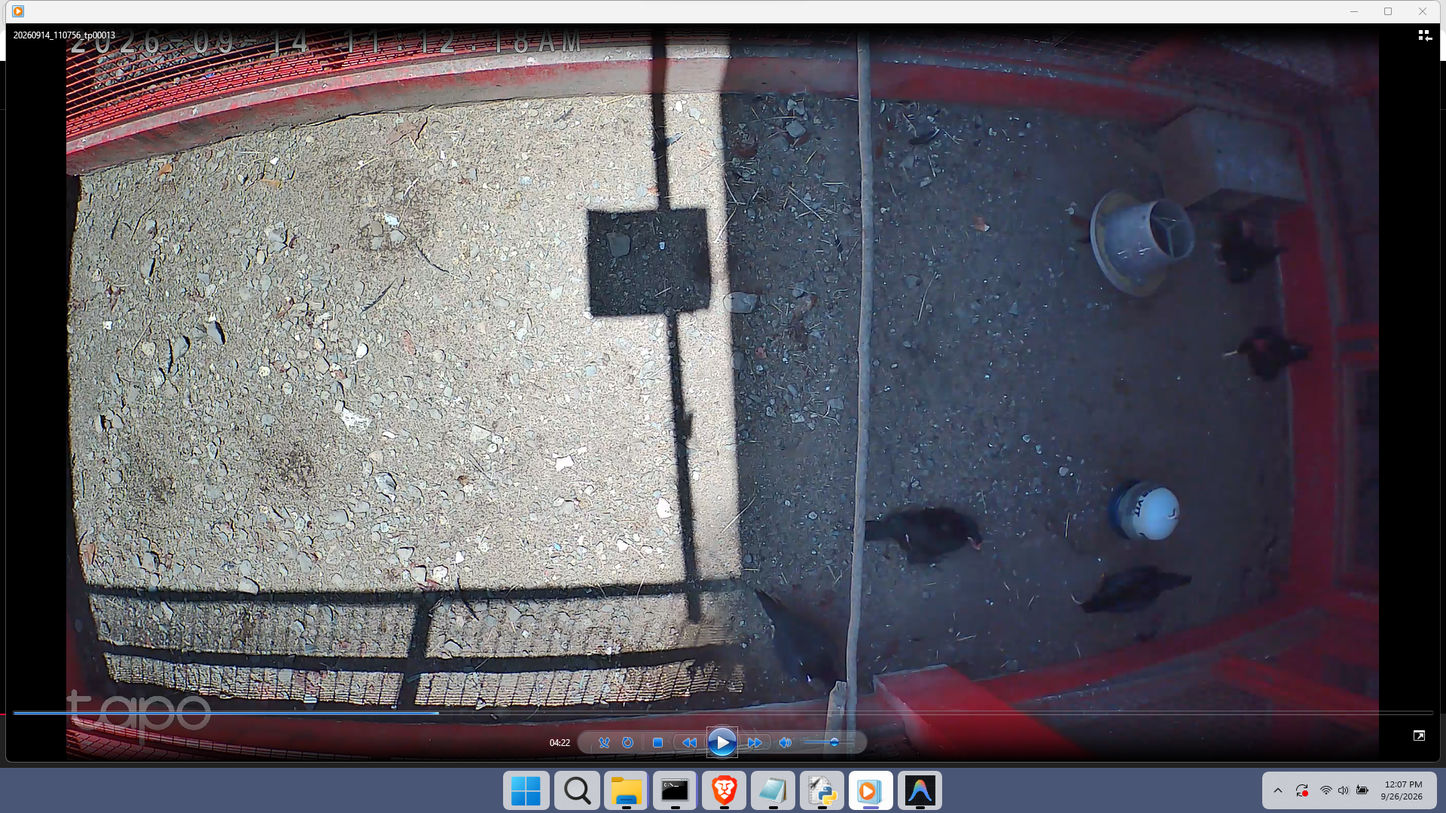Chicken: (750, 582, 848, 694), (865, 506, 992, 571), (1075, 558, 1197, 616), (1214, 220, 1294, 285)
Drinker: (1106, 478, 1181, 543)
Feeder: (1091, 186, 1195, 297)
Leg_Band_White: (930, 563, 936, 567)
Rooster: (1222, 322, 1323, 384)
